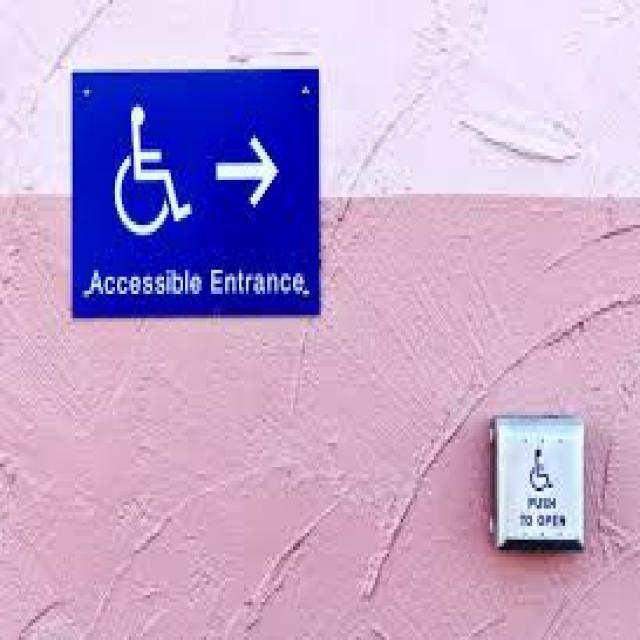symbol_of_access: (114, 106, 192, 237), (526, 448, 554, 493)
